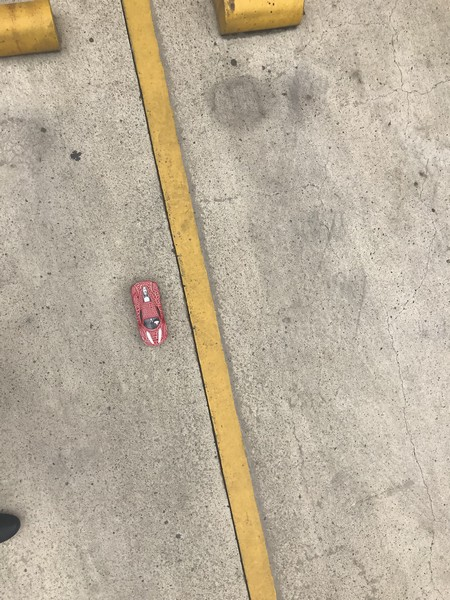RC: (129, 278, 169, 350)
